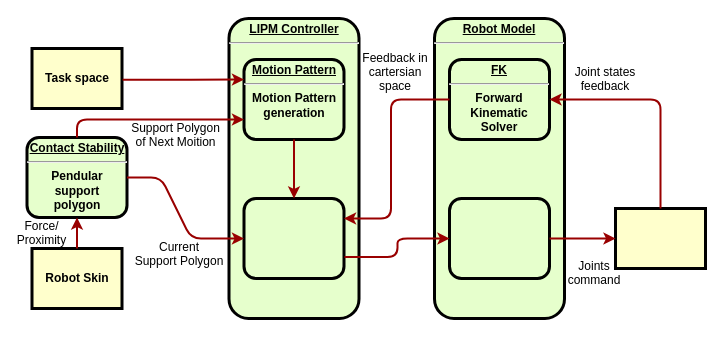
The diagram is 724 pixels wide and 344 high, and some of its shapes have lost their labels. Here are the shapes that lost their labels. From the top down, the centre of each, then its label:
point 293,238: Stabilizer Hip position compensation
point 499,238: IK Inverse Kinematic Solver
point 660,238: Joint space
